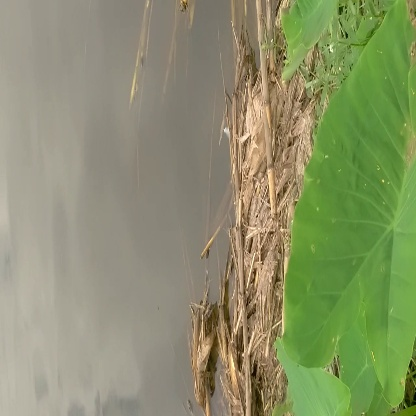branch: (119, 2, 161, 109)
